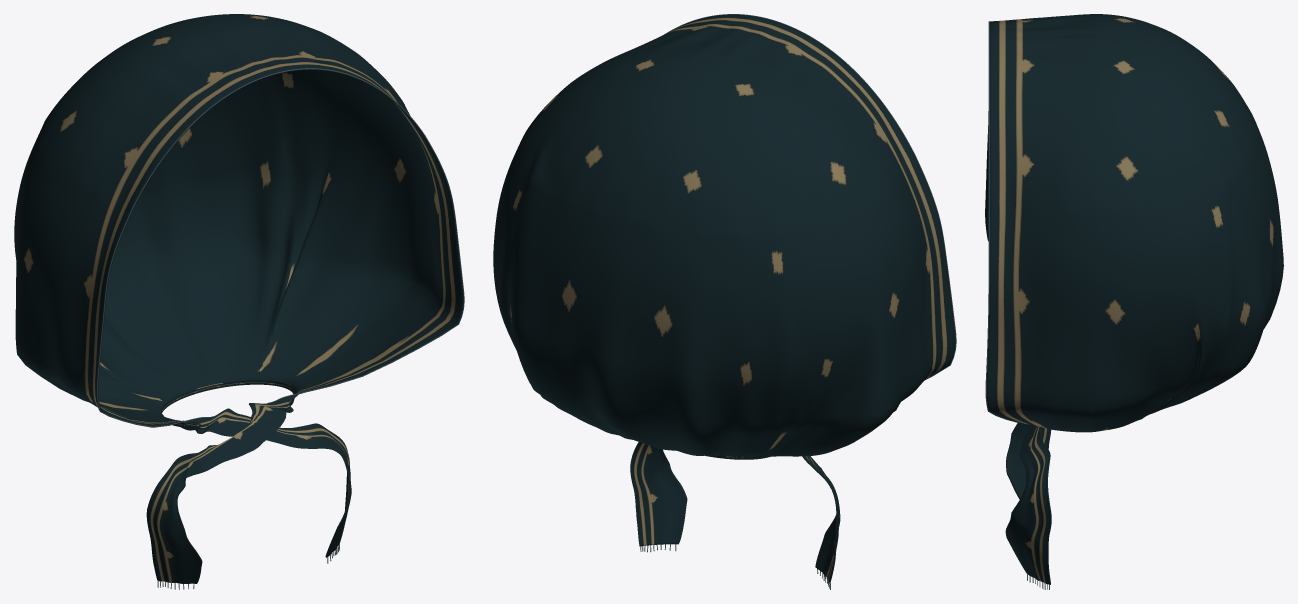
Rendered from Feminine-triangle-pashmina245-headgear.glb.
The picture shows the model from 3 angles, left to right: view 1: azimuth 30°, elevation 25°; view 2: azimuth 150°, elevation 25°; view 3: azimuth 270°, elevation 25°; orthographic projection. The views are drawn at different scales.
Visible parts, largest first — view 1: 226 headgear / Headwear / continuous woven pashmina239, 226 headgear / Headwear / face edge239; view 2: 226 headgear / Headwear / continuous woven pashmina239, 226 headgear / Headwear / face edge239; view 3: 226 headgear / Headwear / continuous woven pashmina239, 226 headgear / Headwear / face edge239.
Boxes of the visible parts, x1,y1,x2,y2 form: 226 headgear / Headwear / continuous woven pashmina239: (14, 14, 463, 583); 226 headgear / Headwear / face edge239: (96, 68, 464, 427); 226 headgear / Headwear / continuous woven pashmina239: (493, 14, 955, 583); 226 headgear / Headwear / face edge239: (664, 14, 956, 379); 226 headgear / Headwear / continuous woven pashmina239: (985, 14, 1283, 584); 226 headgear / Headwear / face edge239: (985, 21, 1028, 424).
Bounding box in the file's own units: 1.02 × 1.35 × 0.7116.
Materials: 3 (1 with a texture image).
